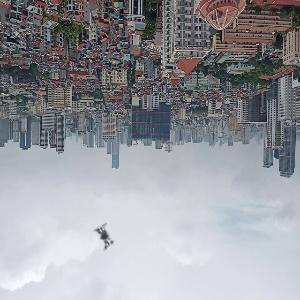drone: (70, 205, 138, 273)
